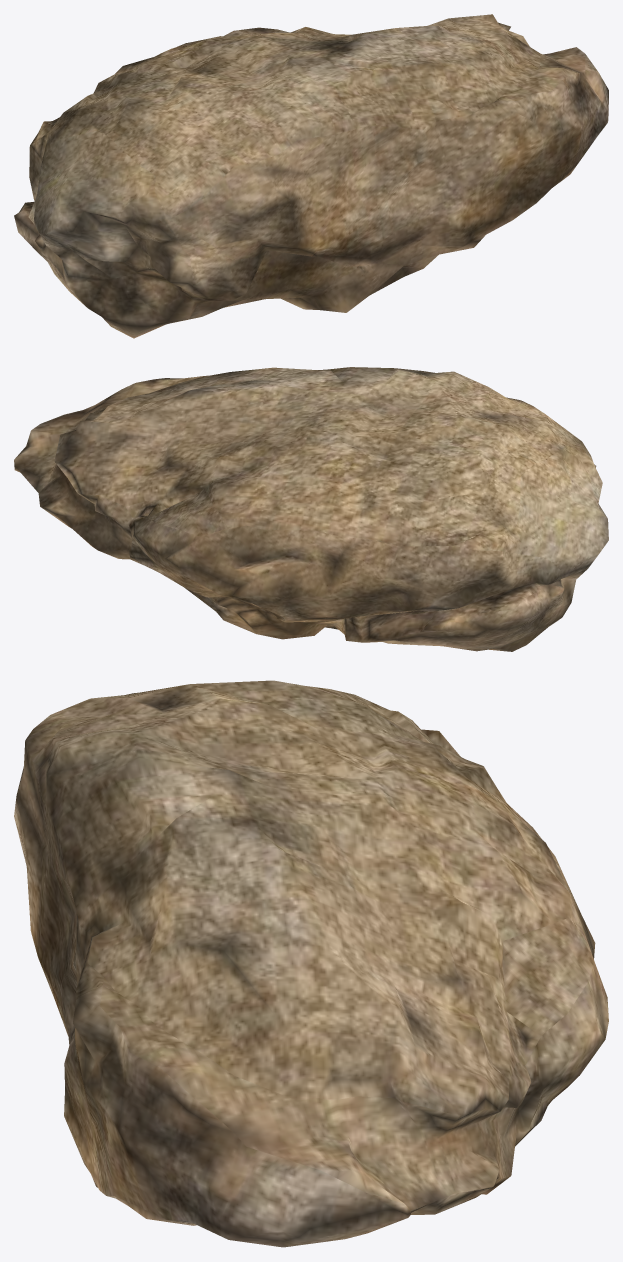
File: namaqualand_boulder_05.lod.glb
The picture shows the model from 3 angles, top to bottom: view 1: azimuth 30°, elevation 25°; view 2: azimuth 150°, elevation 25°; view 3: azimuth 270°, elevation 25°; orthographic projection. The views are drawn at different scales.
Visible parts, largest first — view 1: namaqualand_boulder_05; view 2: namaqualand_boulder_05; view 3: namaqualand_boulder_05.
Part boxes in pixels (x1=…): namaqualand_boulder_05: x1=14, y1=14, x2=608, y2=338; namaqualand_boulder_05: x1=14, y1=367, x2=608, y2=651; namaqualand_boulder_05: x1=14, y1=680, x2=608, y2=1247.
Size of the model in its own units: 1.36 by 0.5286 by 0.747.
Materials: 1 (1 with a texture image).
